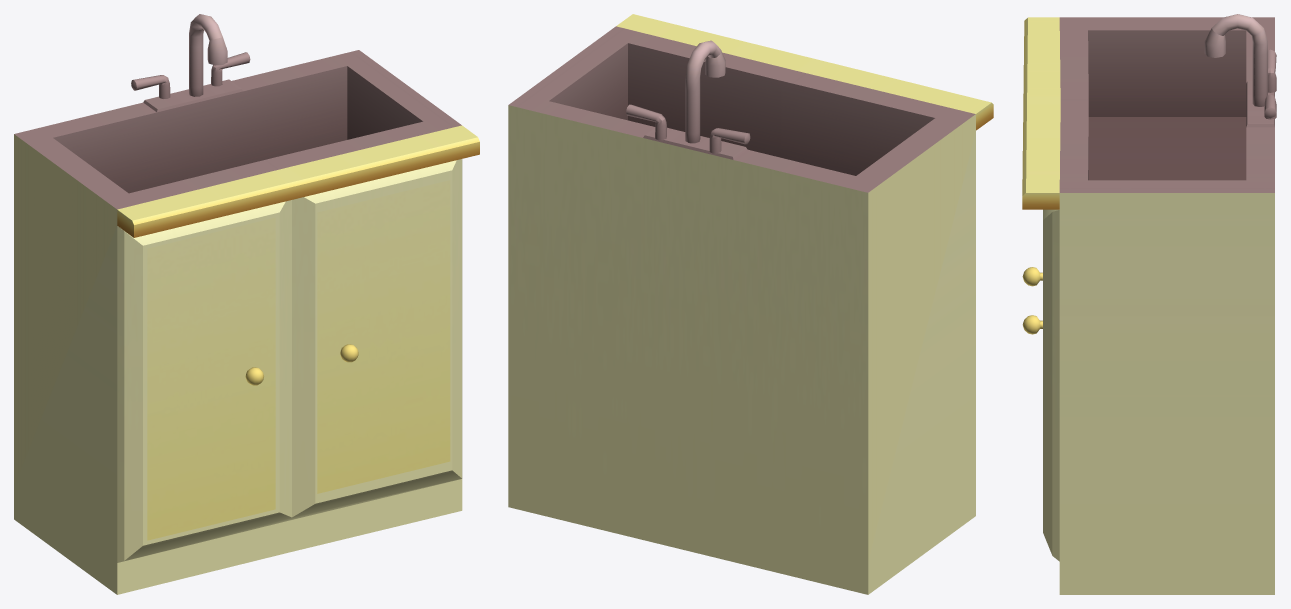
File: kitchensink.fbx
The picture shows the model from 3 angles, left to right: view 1: azimuth 30°, elevation 25°; view 2: azimuth 150°, elevation 25°; view 3: azimuth 270°, elevation 25°; orthographic projection. The views are drawn at different scales.
Visible parts, largest first — view 1: sink; view 2: sink; view 3: sink.
Boxes of the visible parts, <box> form: sink: <box>14,14,479,594</box>; sink: <box>508,14,993,594</box>; sink: <box>1022,14,1276,594</box>.
Bounding box in the file's own units: 2.87 × 3.77 × 1.76.
